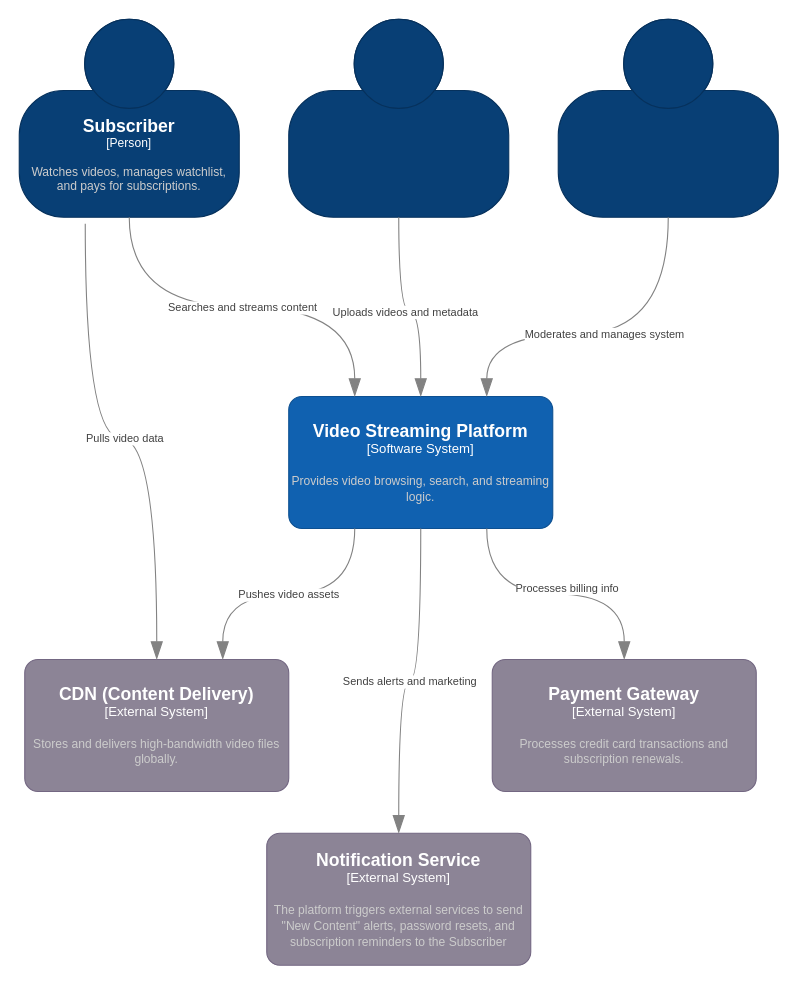
This 798x985 diagram has some shape labels left out. Each missing label, with the centre of its shape:
"Admin [Person] Manages user accounts, moderates content, and monitors health." belongs at pixel 667 117.
"Content Creator [Person] Uploads new video content and manages titles/metadata" belongs at pixel 398 117.
